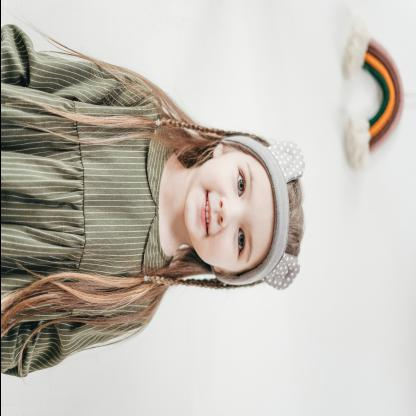Eye: (235, 227, 245, 257), (235, 168, 244, 198)
Mouth: (199, 189, 211, 237)
Nose: (218, 195, 240, 229)
